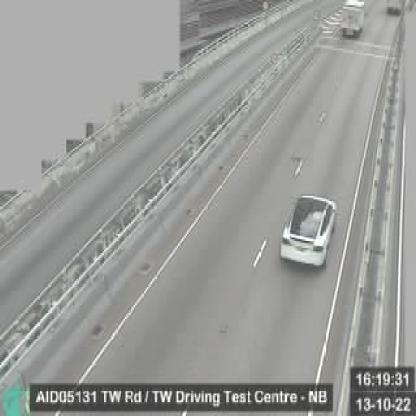Car: (279, 196, 338, 270)
Truck: (340, 0, 367, 42)
